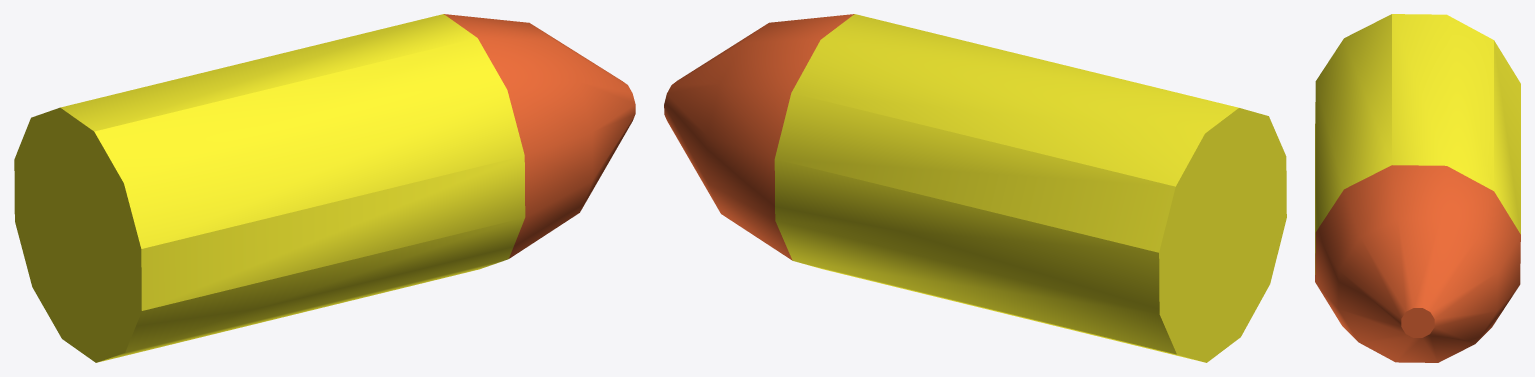
The model's file is GL_bullet.fbx.
3 renders of one model, left to right at view 1: azimuth 30°, elevation 25°; view 2: azimuth 150°, elevation 25°; view 3: azimuth 270°, elevation 25°, orthographic. The views are drawn at different scales.
Visible parts, largest first — view 1: GL_bullet; view 2: GL_bullet; view 3: GL_bullet.
Part boxes in pixels (x1,y1,x2,y2): GL_bullet: (14,14,635,362); GL_bullet: (664,14,1286,362); GL_bullet: (1315,14,1520,362).
Bounding box in the file's own units: 23.94 × 9.66 × 9.66.
